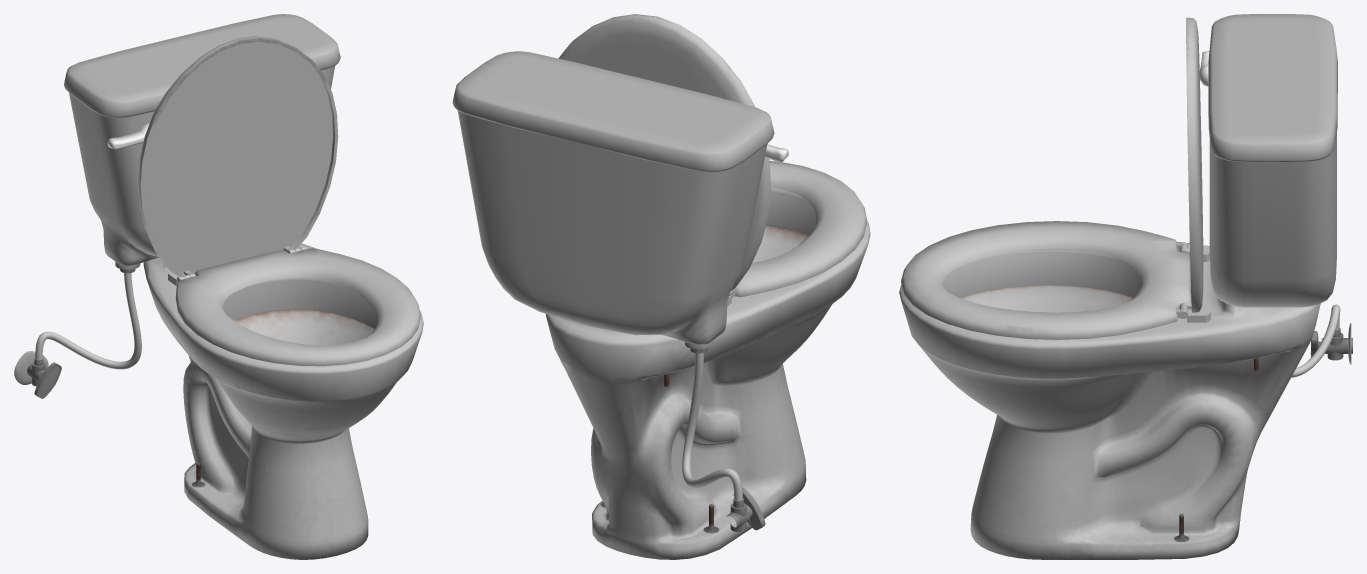
File: office_toilet.glb
3 views of the same model, side by side, from view 1: azimuth 30°, elevation 25°; view 2: azimuth 150°, elevation 25°; view 3: azimuth 270°, elevation 25° (orthographic). The views are drawn at different scales.
Visible parts, largest first — view 1: Toilet, ToiletSeatCover, ToiletSeat, ToiletFlushHandle; view 2: Toilet, ToiletSeatCover, ToiletSeat; view 3: Toilet, ToiletSeat, ToiletSeatCover.
Boxes of the visible parts, x1,y1,x2,y2 form: Toilet: [14, 14, 423, 559]; ToiletSeatCover: [138, 36, 338, 277]; ToiletSeat: [175, 246, 420, 366]; ToiletFlushHandle: [107, 123, 149, 149]; Toilet: [452, 51, 870, 559]; ToiletSeatCover: [558, 14, 770, 290]; ToiletSeat: [729, 161, 866, 298]; Toilet: [899, 14, 1352, 559]; ToiletSeat: [901, 221, 1191, 339]; ToiletSeatCover: [1179, 17, 1203, 312].
Size of the model in its own units: 0.4783 by 0.7435 by 0.607.
1 material, 1 textured.
